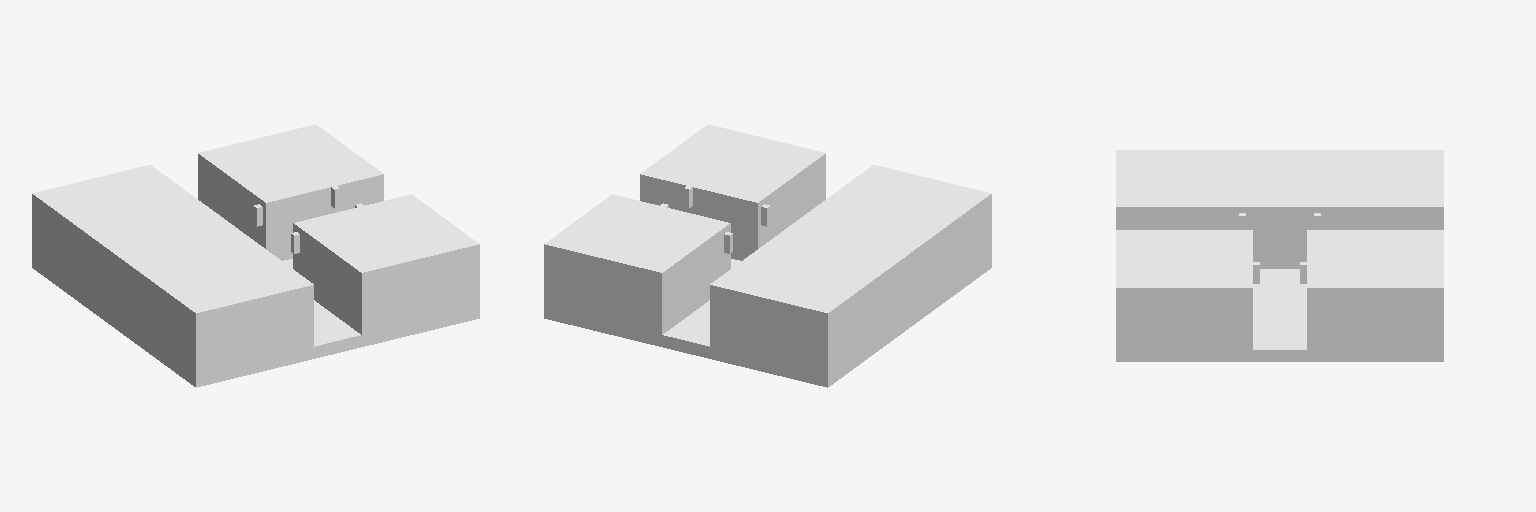
File: Right-Elbow-Room-00.obj
3 renders of one model, left to right at view 1: azimuth 30°, elevation 25°; view 2: azimuth 150°, elevation 25°; view 3: azimuth 270°, elevation 25°, orthographic.
Size of the model in its own units: 48 by 12 by 48.